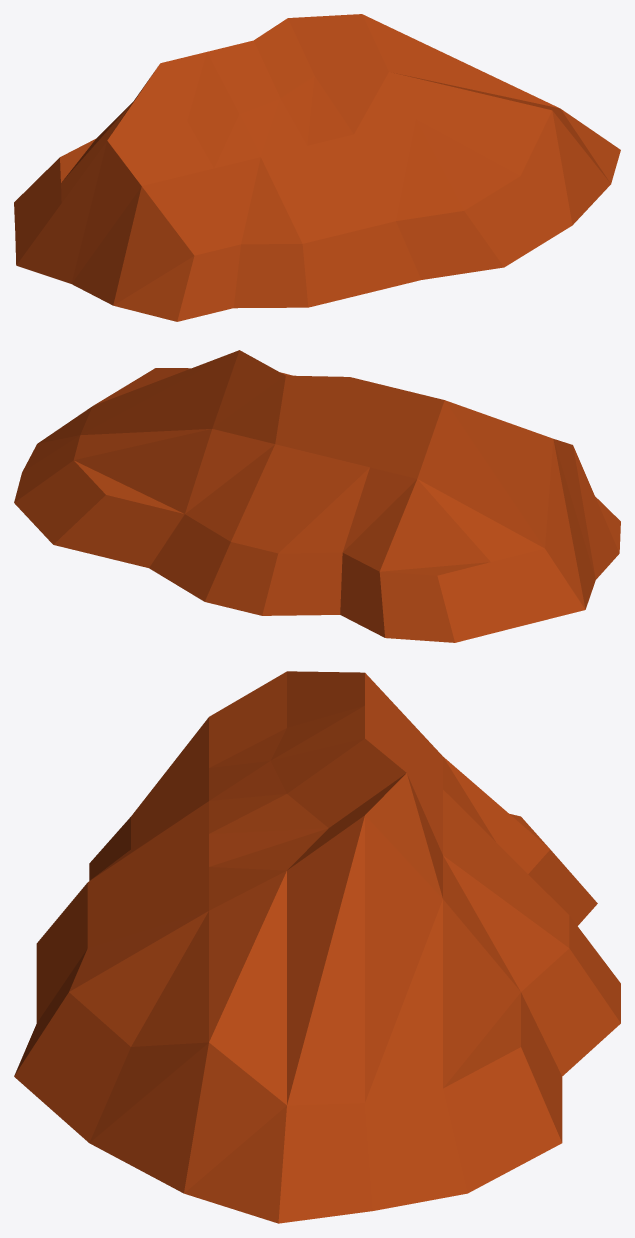
The model's file is Hill_desert_002.glb.
3 renders of one model, top to bottom at view 1: azimuth 30°, elevation 25°; view 2: azimuth 150°, elevation 25°; view 3: azimuth 270°, elevation 25°, orthographic. The views are drawn at different scales.
Visible parts, largest first — view 1: Hill_desert_002; view 2: Hill_desert_002; view 3: Hill_desert_002.
Part boxes in pixels (x1,y1,x2,y2): Hill_desert_002: (14, 14, 620, 321); Hill_desert_002: (14, 350, 620, 642); Hill_desert_002: (14, 671, 620, 1223).
Bounding box in the file's own units: 46.56 × 13.22 × 29.52.
